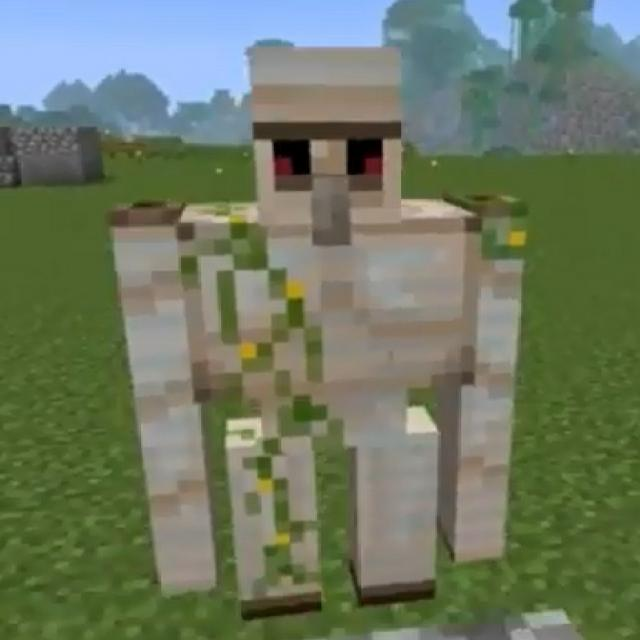Iron Golem: (98, 42, 530, 615)
